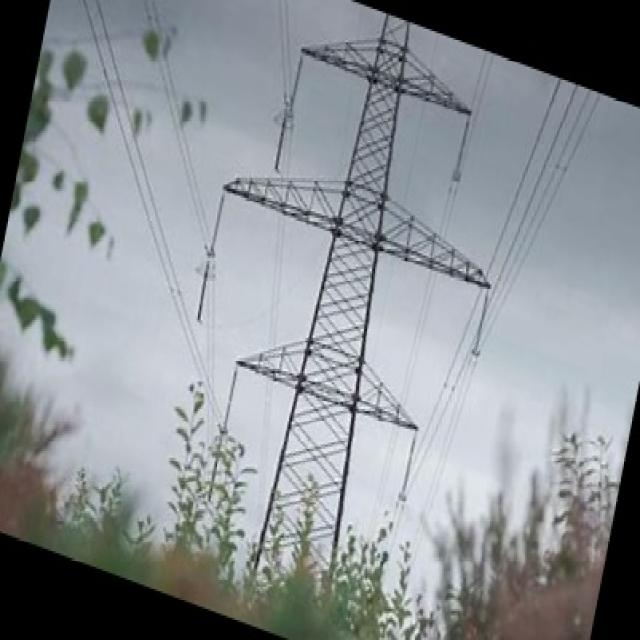utility poles: (221, 361, 424, 625)
